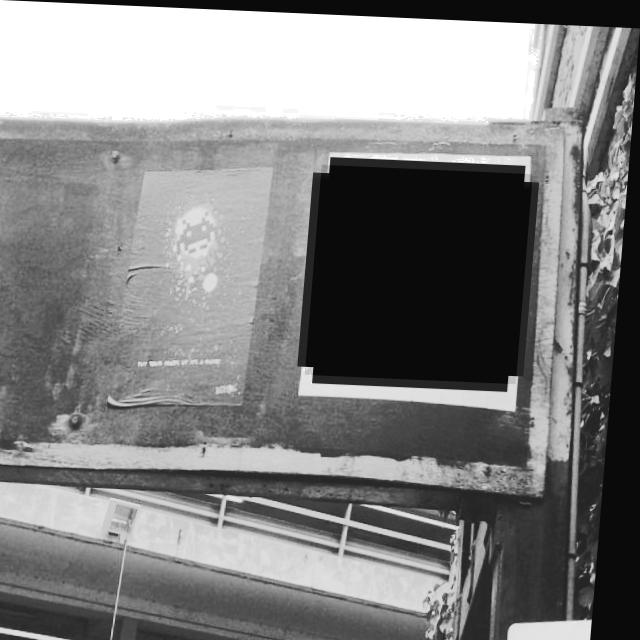qr_code: (311, 162, 535, 379)
